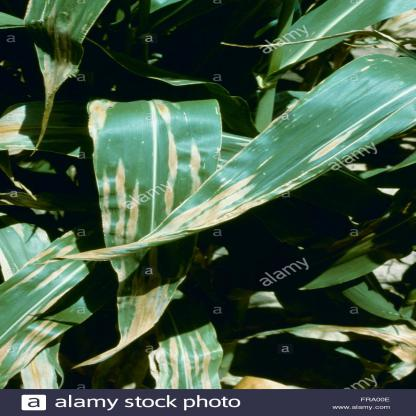corn leaf blight: (37, 48, 416, 266), (81, 93, 205, 363), (22, 1, 119, 155)
